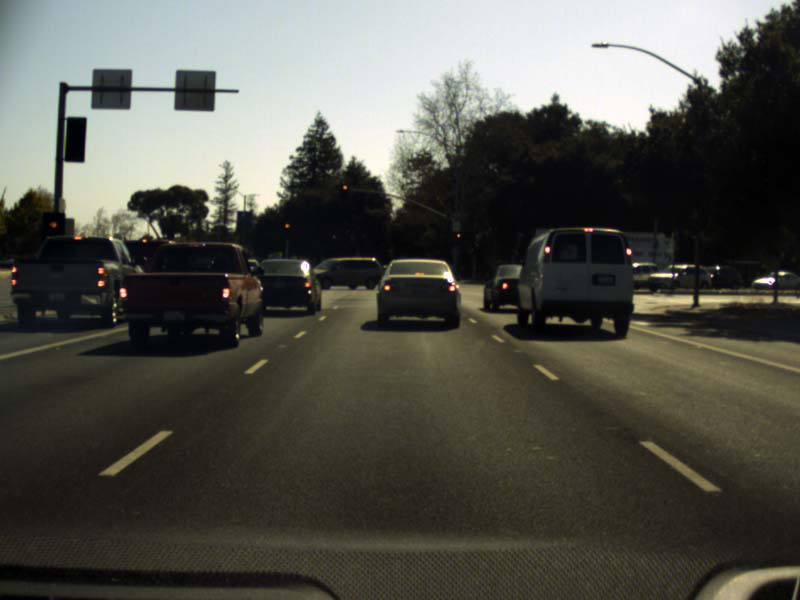Red: (42, 213, 64, 245), (283, 221, 291, 237), (341, 183, 349, 198), (455, 231, 462, 247)
